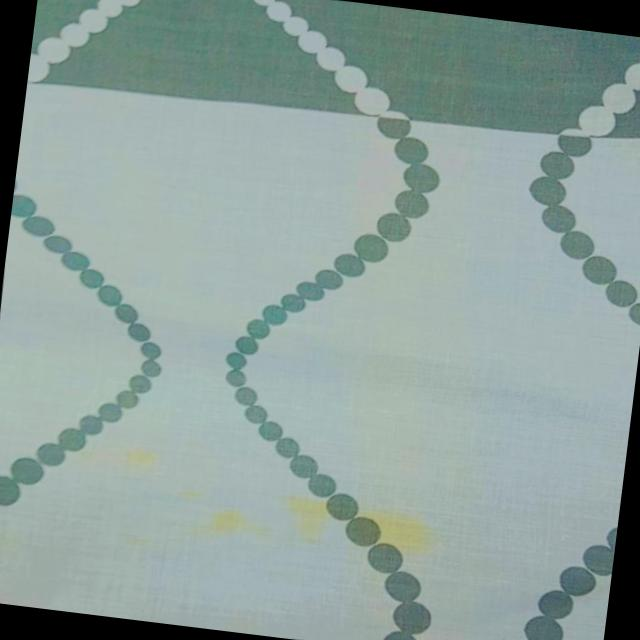stain: (172, 469, 448, 576), (64, 434, 170, 479)
